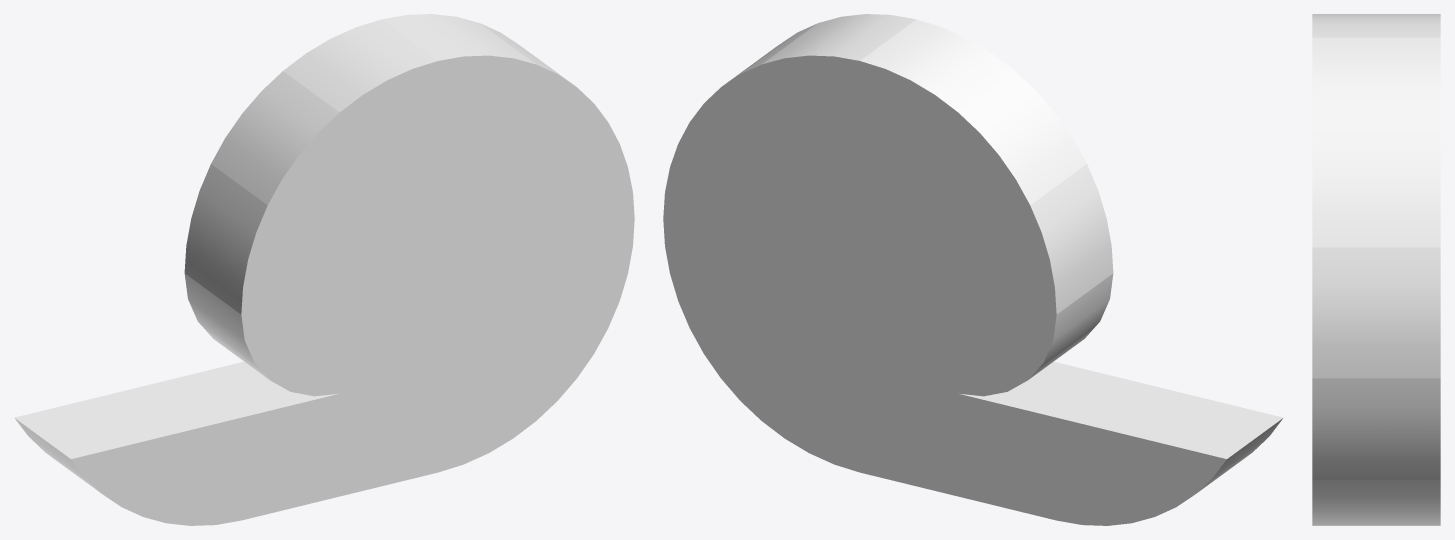
Rendered from Dust.glb.
The picture shows the model from 3 angles, left to right: view 1: azimuth 30°, elevation 25°; view 2: azimuth 150°, elevation 25°; view 3: azimuth 270°, elevation 25°; orthographic projection. The views are drawn at different scales.
Parts seen in each view (by area): view 1: generated(Clone); view 2: generated(Clone); view 3: generated(Clone).
Boxes of the visible parts, x1,y1,x2,y2 form: generated(Clone): (14, 14, 634, 525); generated(Clone): (663, 14, 1283, 525); generated(Clone): (1312, 14, 1440, 525).
Bounding box in the file's own units: 5.73 × 4 × 1.
Materials: 1 (1 with a texture image).
